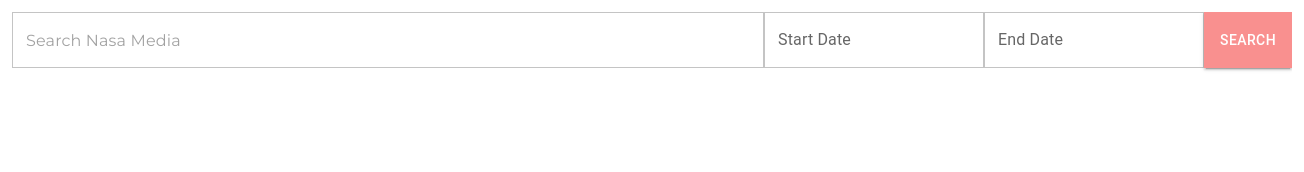
Searchbar › tests search action validation failuire
This screenshot has width=1304, height=172.
Click the button "Search": (1248, 40) [1204,12,1292,68]
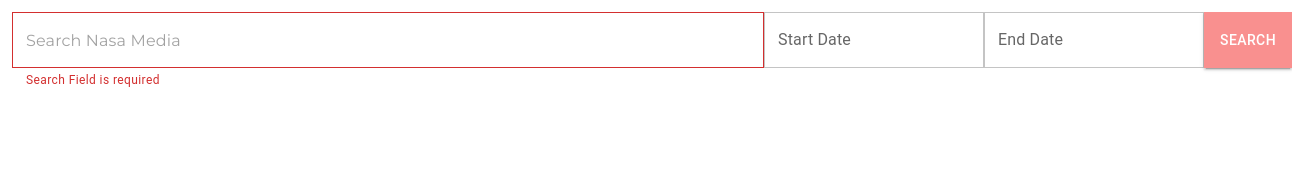
expect the text "Search Field is required" is shown: met, box [26,73,160,87]
